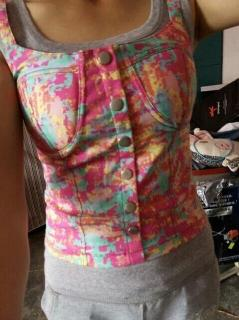sling dress: (0, 0, 208, 267)
